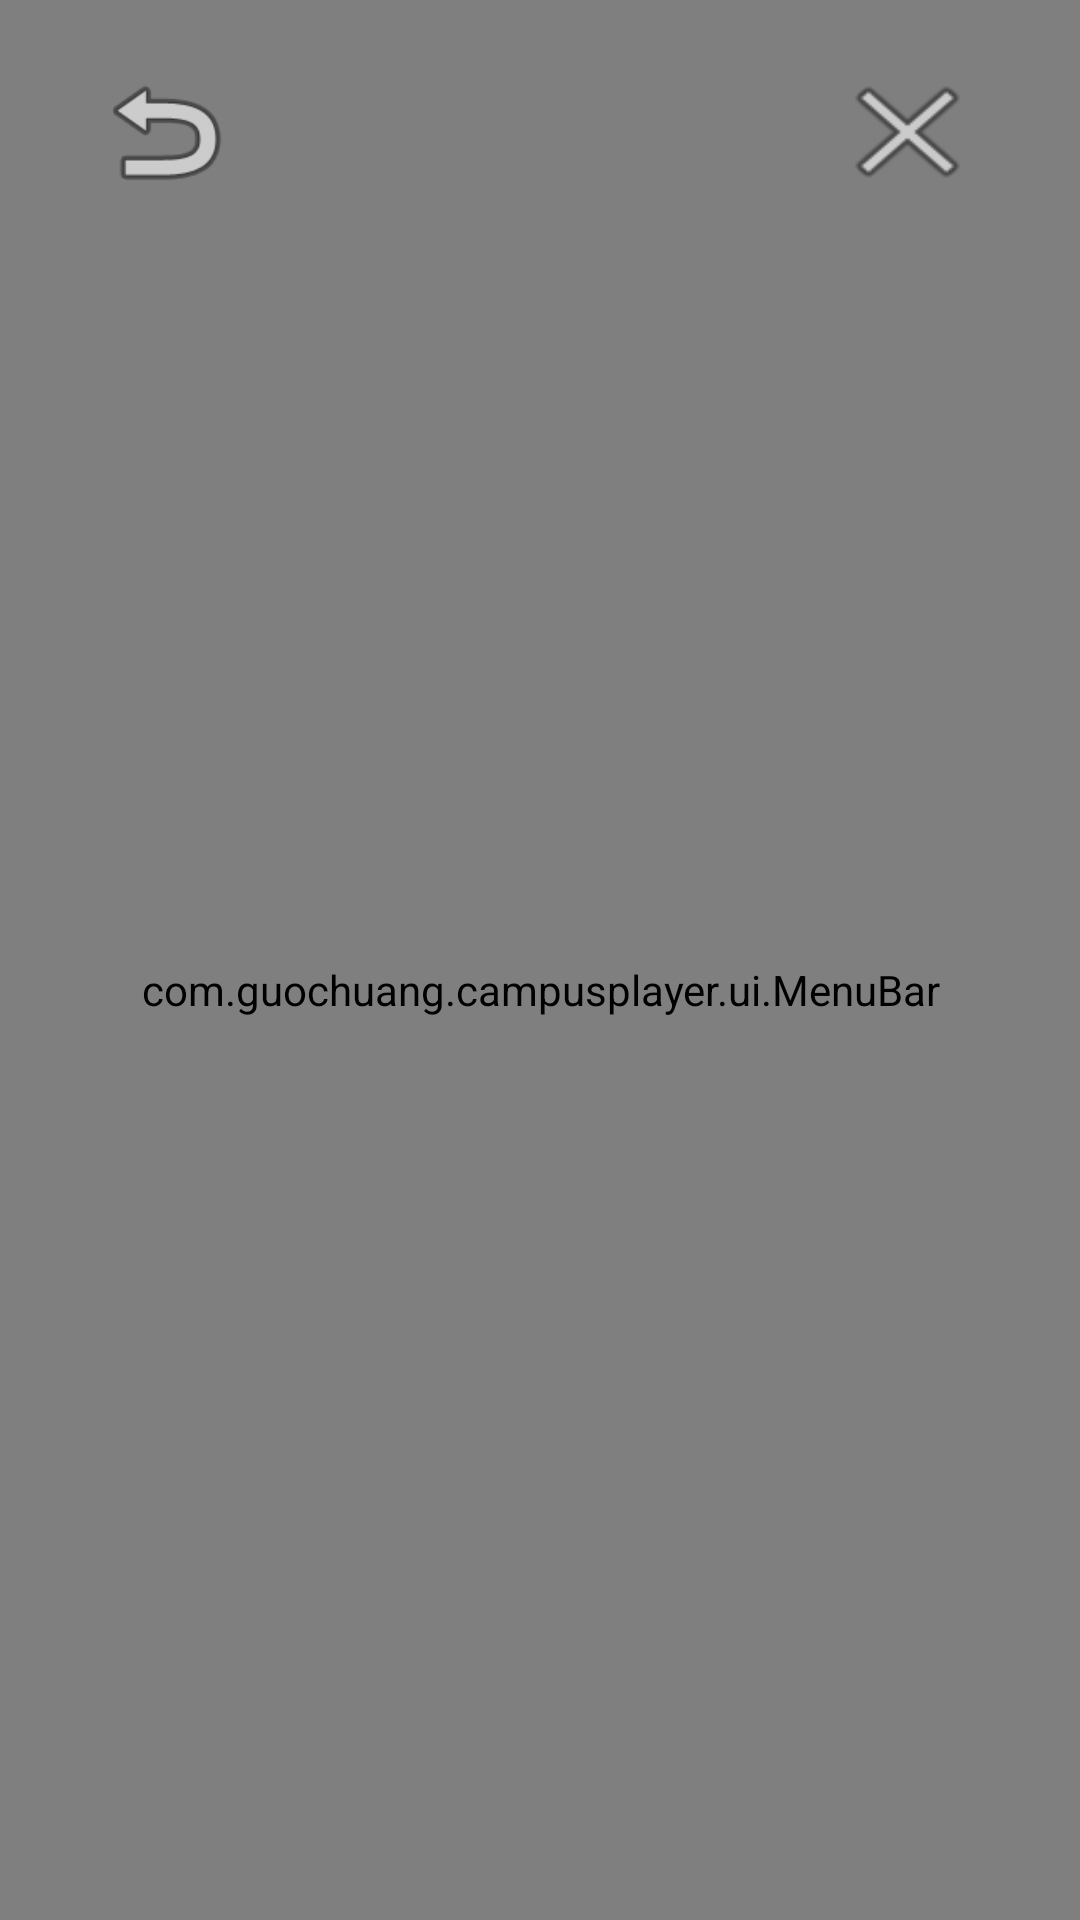

Screen size 1080 × 1920. Icon name, then its box in pixels as {"left": x1, "top": y1, "right": x2, "bottom": y2}:
close clear cancel: {"left": 857, "top": 88, "right": 958, "bottom": 176}
revert: {"left": 113, "top": 87, "right": 221, "bottom": 180}
